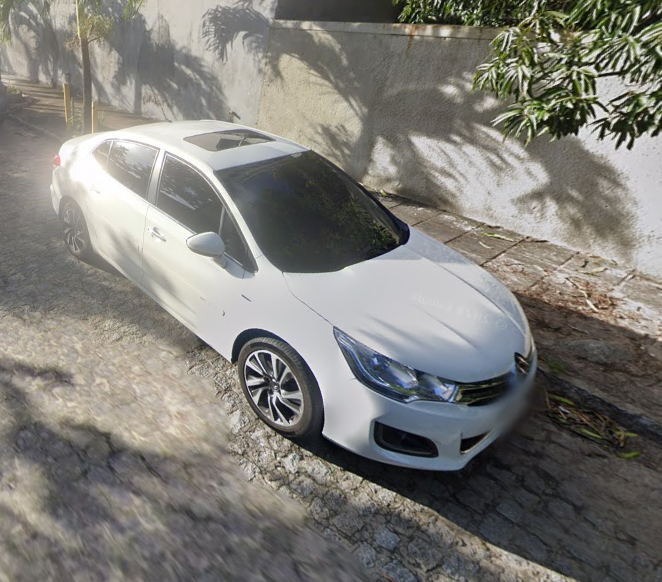car: (47, 117, 541, 475)
